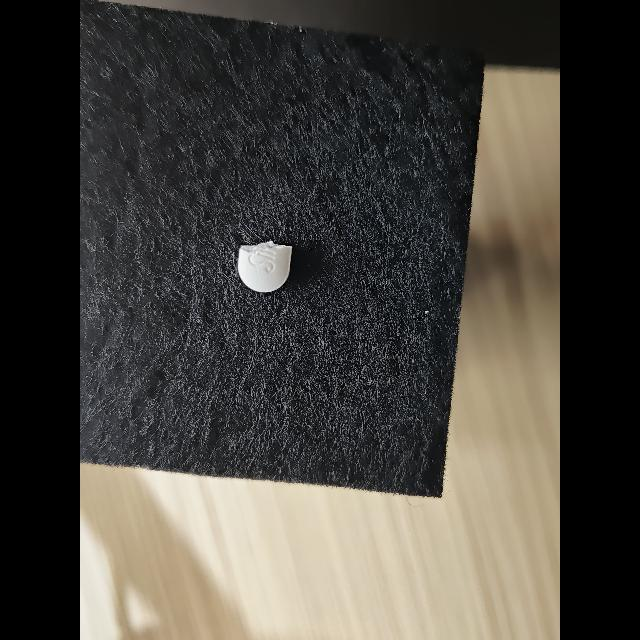Chipped Pill: (238, 241, 293, 292)
